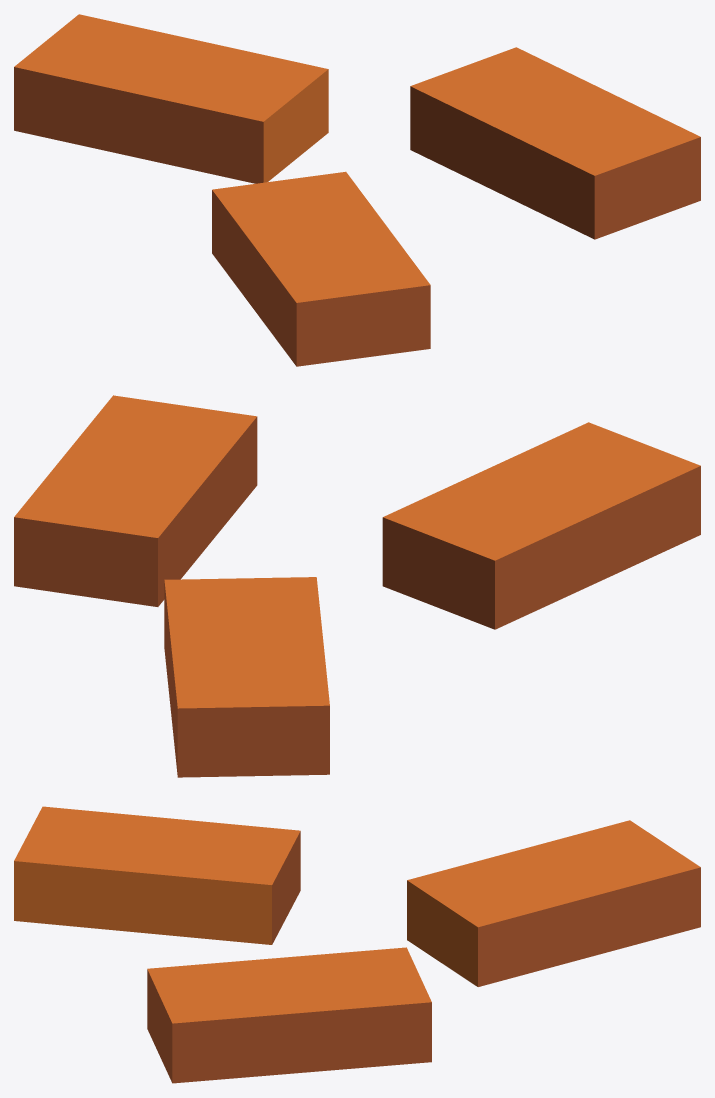
The model's file is Carrot_001-1.fbx.
The picture shows the model from 3 angles, top to bottom: view 1: azimuth 30°, elevation 25°; view 2: azimuth 150°, elevation 25°; view 3: azimuth 270°, elevation 25°; orthographic projection. The views are drawn at different scales.
Parts seen in each view (by area): view 1: Carrot_001-1; view 2: Carrot_001-1; view 3: Carrot_001-1.
Boxes of the visible parts, x1,y1,x2,y2 form: Carrot_001-1: (14, 14, 700, 366); Carrot_001-1: (14, 395, 700, 777); Carrot_001-1: (14, 806, 700, 1083).
Size of the model in its own units: 24.29 by 3.12 by 32.48.
Materials: 1 (1 with a texture image).
